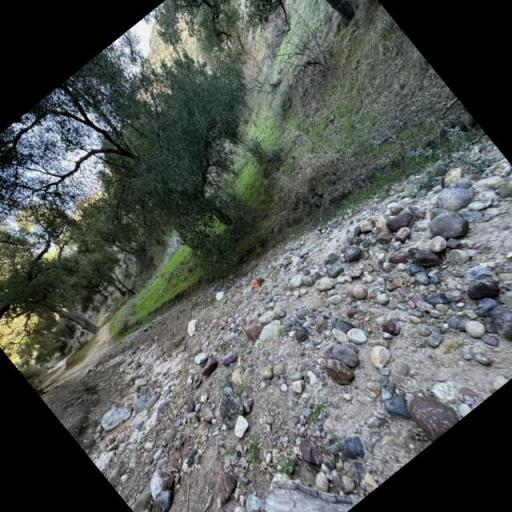mallet: (252, 278, 262, 290)
